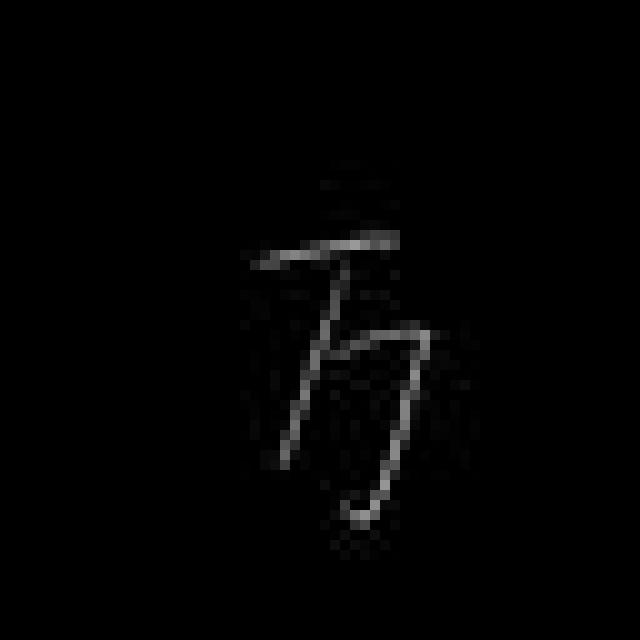10000 -a ten thousand-: (245, 216, 448, 537)
